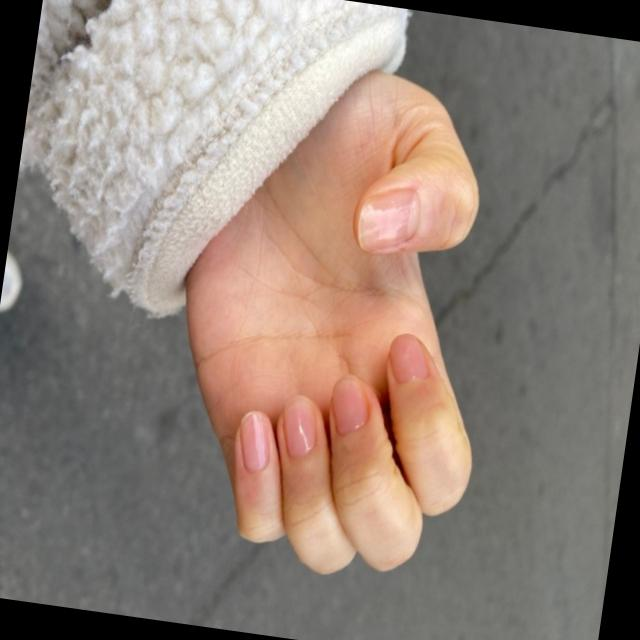Nail: (357, 189, 419, 250), (331, 376, 366, 436), (282, 397, 316, 457), (388, 334, 428, 384), (240, 410, 269, 472)
